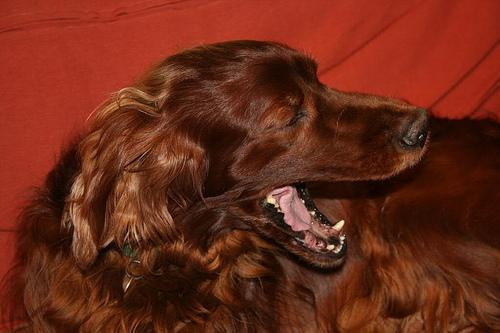Irish_setter: (11, 33, 499, 332)
